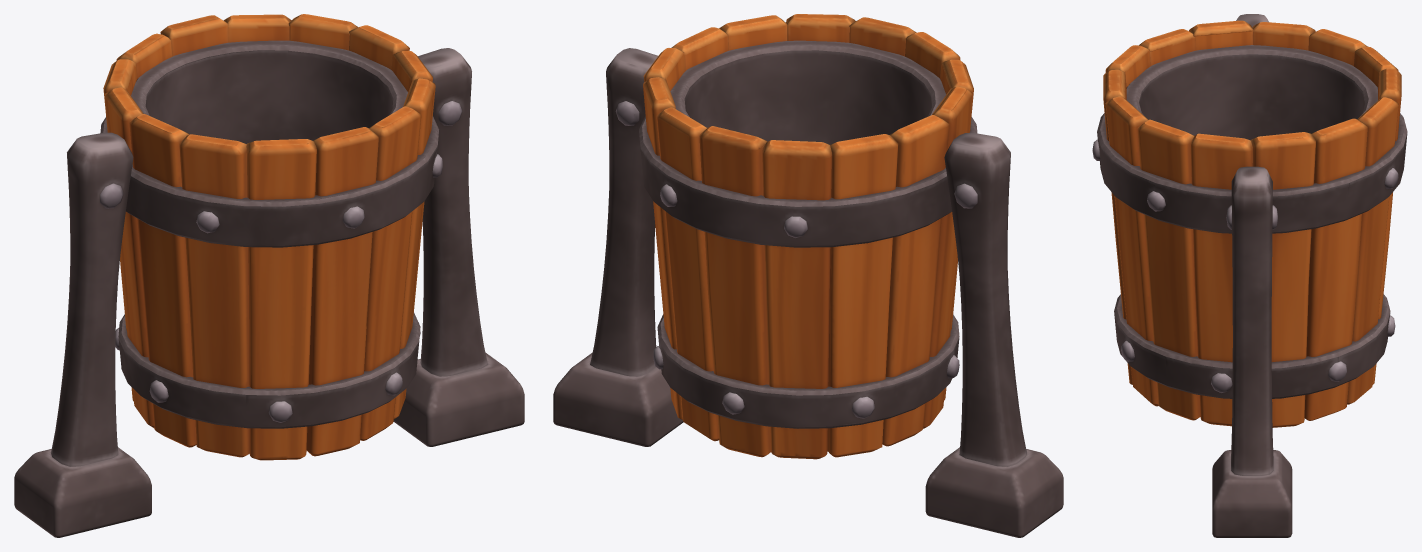
Rendered from trash_can.glb.
The picture shows the model from 3 angles, left to right: view 1: azimuth 30°, elevation 25°; view 2: azimuth 150°, elevation 25°; view 3: azimuth 270°, elevation 25°; orthographic projection. The views are drawn at different scales.
Parts seen in each view (by area): view 1: model; view 2: model; view 3: model.
Part boxes in pixels (x1,y1,x2,y2): model: (14,14,524,537); model: (553,14,1063,537); model: (1092,14,1407,537).
Size of the model in its own units: 0.94 by 0.7441 by 0.597.
2 materials, 2 textured.
